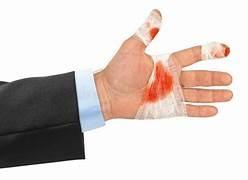Bandage: (135, 54, 186, 118), (135, 55, 186, 118), (135, 10, 161, 45), (201, 42, 229, 59)
